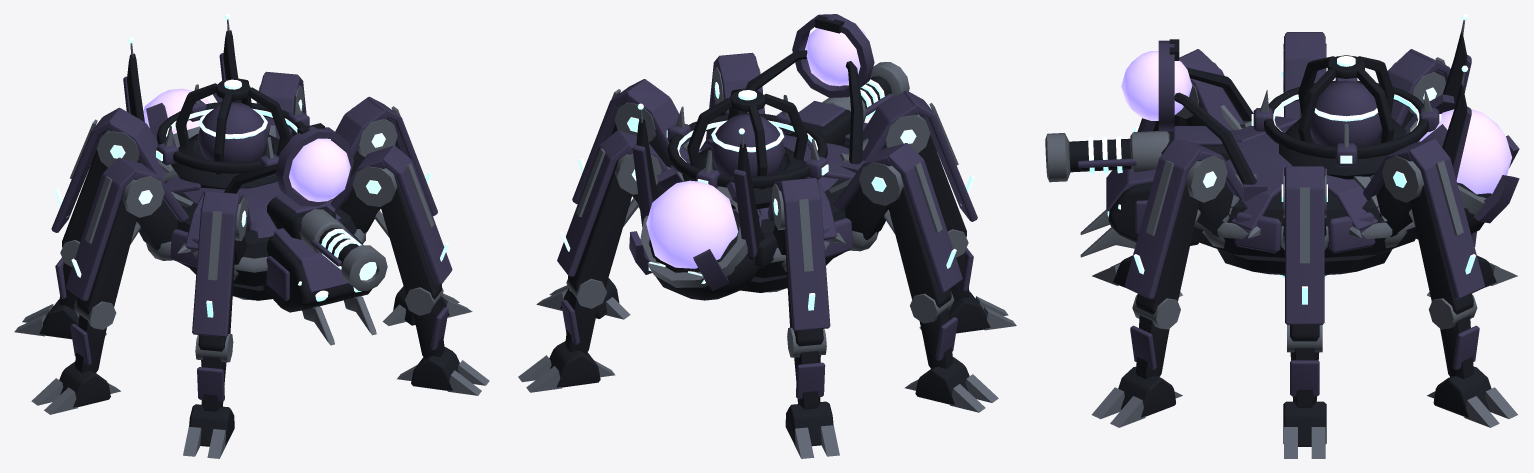
The model's file is enemy_boss.glb.
3 renders of one model, left to right at view 1: azimuth 30°, elevation 25°; view 2: azimuth 150°, elevation 25°; view 3: azimuth 270°, elevation 25°, orthographic. The views are drawn at different scales.
Parts seen in each view (by area): view 1: body, head, leg_5_lower, leg_1_lower, leg_4_lower, leg_6_lower, leg_5_upper, spin_1, weak_2, leg_1_upper, leg_6_upper, leg_2_upper (+13 smaller); view 2: body, leg_5_lower, leg_3_lower, leg_6_lower, weak_1, leg_4_lower, spin_1, leg_5_upper, head, leg_2_upper, leg_4_upper, leg_3_toe (+13 smaller); view 3: body, head, leg_3_lower, leg_1_lower, leg_2_lower, spin_1, weak_1, leg_3_upper, leg_1_upper, leg_1_toe, leg_3_toe, weak_2 (+9 smaller).
Part boxes in pixels (bbox=[...]): body: bbox=[123, 14, 366, 300]; head: bbox=[263, 190, 387, 345]; leg_5_lower: bbox=[66, 157, 140, 329]; leg_1_lower: bbox=[374, 145, 452, 315]; leg_4_lower: bbox=[192, 191, 239, 362]; leg_6_lower: bbox=[51, 107, 122, 266]; leg_5_upper: bbox=[122, 158, 193, 250]; spin_1: bbox=[156, 84, 310, 176]; weak_2: bbox=[289, 138, 350, 201]; leg_1_upper: bbox=[330, 146, 397, 233]; leg_6_upper: bbox=[96, 109, 173, 181]; leg_2_upper: bbox=[331, 98, 397, 176]; body: bbox=[629, 14, 878, 300]; leg_5_lower: bbox=[884, 143, 962, 323]; leg_3_lower: bbox=[557, 130, 638, 308]; leg_6_lower: bbox=[780, 178, 830, 357]; weak_1: bbox=[646, 180, 738, 268]; leg_4_lower: bbox=[903, 90, 977, 257]; spin_1: bbox=[666, 95, 828, 188]; leg_5_upper: bbox=[829, 144, 903, 239]; head: bbox=[784, 62, 909, 148]; leg_2_upper: bbox=[614, 80, 699, 167]; leg_4_upper: bbox=[847, 92, 930, 161]; leg_3_toe: bbox=[518, 341, 615, 392]; body: bbox=[1158, 14, 1519, 278]; head: bbox=[1045, 126, 1229, 257]; leg_3_lower: bbox=[1408, 138, 1484, 329]; leg_1_lower: bbox=[1124, 138, 1200, 329]; leg_2_lower: bbox=[1285, 166, 1324, 352]; spin_1: bbox=[1251, 77, 1441, 166]; weak_1: bbox=[1419, 109, 1512, 194]; leg_3_upper: bbox=[1363, 140, 1429, 236]; leg_1_upper: bbox=[1180, 140, 1243, 236]; leg_1_toe: bbox=[1091, 366, 1182, 427]; leg_3_toe: bbox=[1427, 366, 1517, 427]; weak_2: bbox=[1121, 51, 1192, 120].
Bounding box in the file's own units: 5.44 × 3.42 × 4.8.
